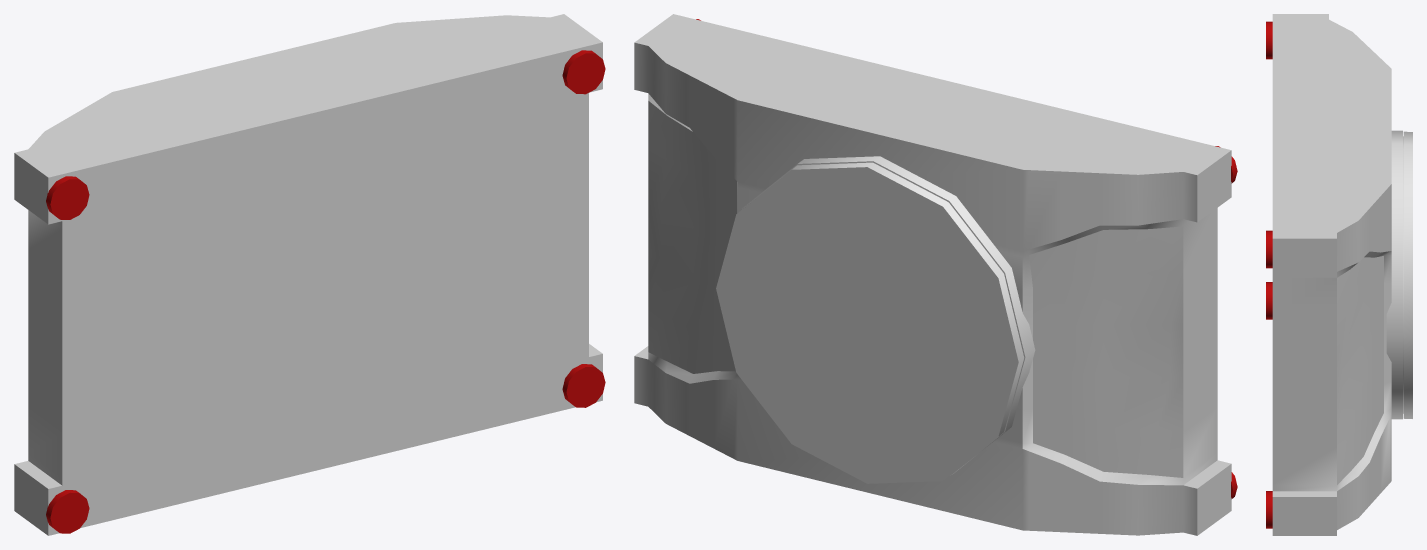
3 renders of one model, left to right at view 1: azimuth 30°, elevation 25°; view 2: azimuth 150°, elevation 25°; view 3: azimuth 270°, elevation 25°, orthographic. The views are drawn at different scales.
Parts seen in each view (by area): view 1: Cube; view 2: Cube; view 3: Cube.
Part boxes in pixels (box(x1,y1,x2,y2)): Cube: box(14, 14, 605, 535); Cube: box(634, 14, 1237, 535); Cube: box(1266, 14, 1412, 535).
Size of the model in its own units: 33.81 by 20.8 by 9.31.
